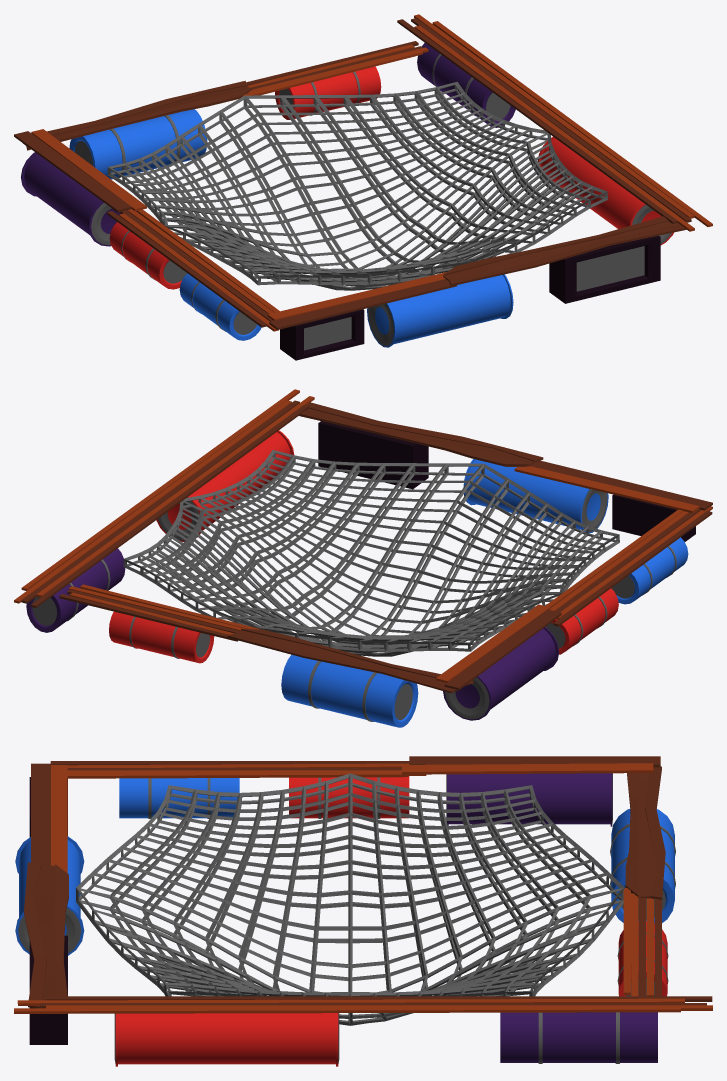
The model's file is FishingNets.fbx.
3 views of the same model, one above another, from view 1: azimuth 30°, elevation 25°; view 2: azimuth 150°, elevation 25°; view 3: azimuth 270°, elevation 25° (orthographic). The views are drawn at different scales.
Visible parts, largest first — view 1: Nets; view 2: Nets; view 3: Nets.
Part boxes in pixels (x1,y1,x2,y2): Nets: (14,14,712,360); Nets: (14,389,712,727); Nets: (14,756,712,1066).
Size of the model in its own units: 9.17 by 2.11 by 10.12.
